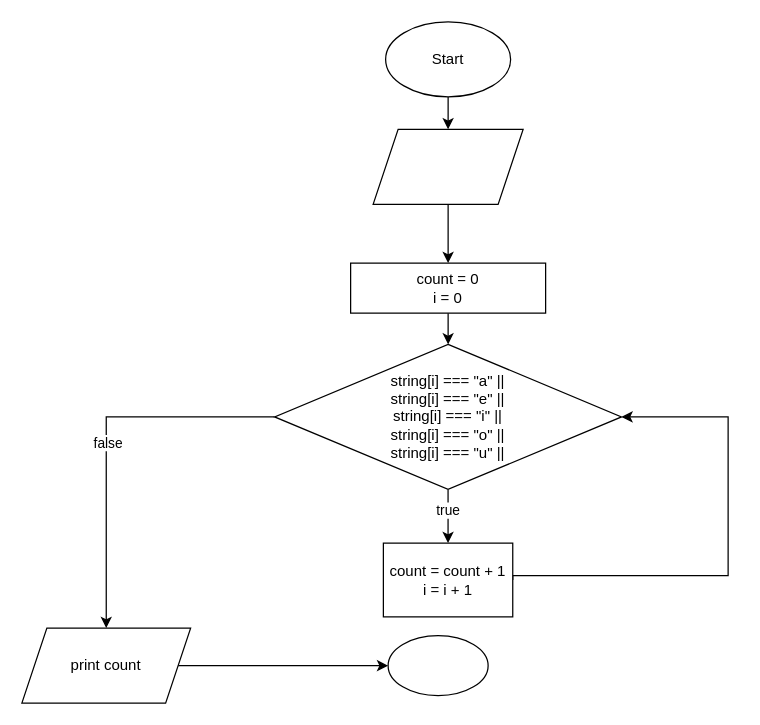
Image size: 760x725. Some labels were removed from this diagram. Each missing label, with the box of its shape:
End: (387, 634, 488, 696)
string: (372, 128, 523, 204)
